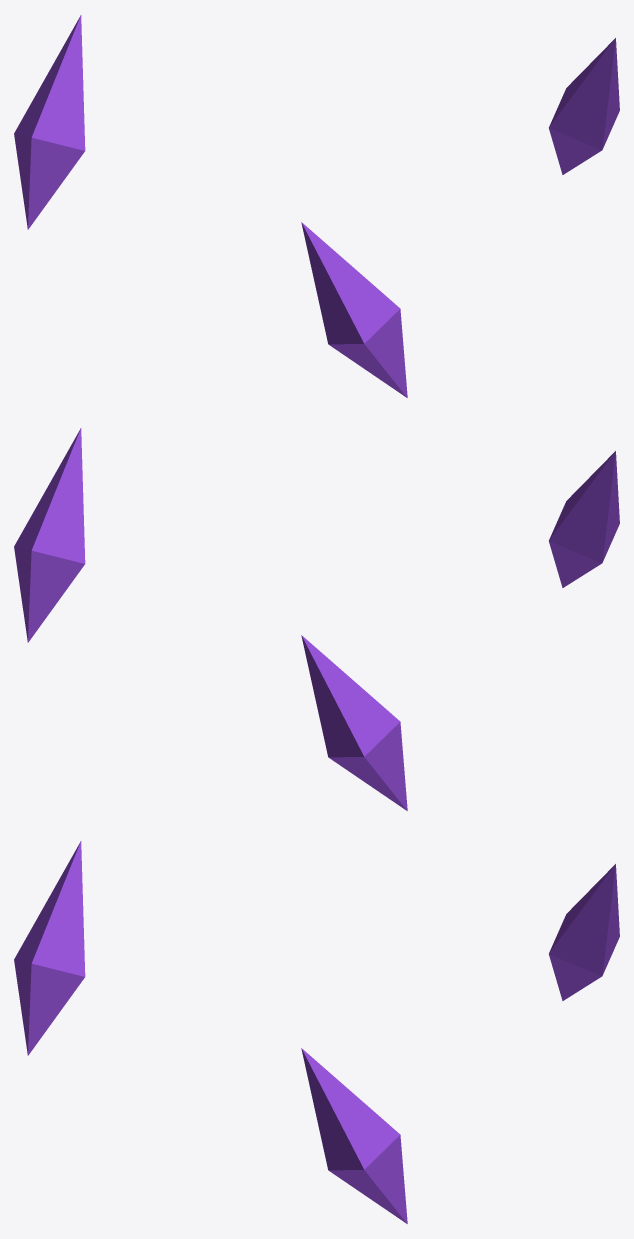
The model's file is spire_orbit.fbx.
The picture shows the model from 3 angles, top to bottom: view 1: azimuth 30°, elevation 25°; view 2: azimuth 150°, elevation 25°; view 3: azimuth 270°, elevation 25°; orthographic projection.
Visible parts, largest first — view 1: part_orbit; view 2: part_orbit; view 3: part_orbit.
Boxes of the visible parts, <box> form: part_orbit: <box>14,15,619,397</box>; part_orbit: <box>14,428,619,810</box>; part_orbit: <box>14,841,619,1223</box>.
Bounding box in the file's own units: 1.07 × 0.3679 × 1.14.
